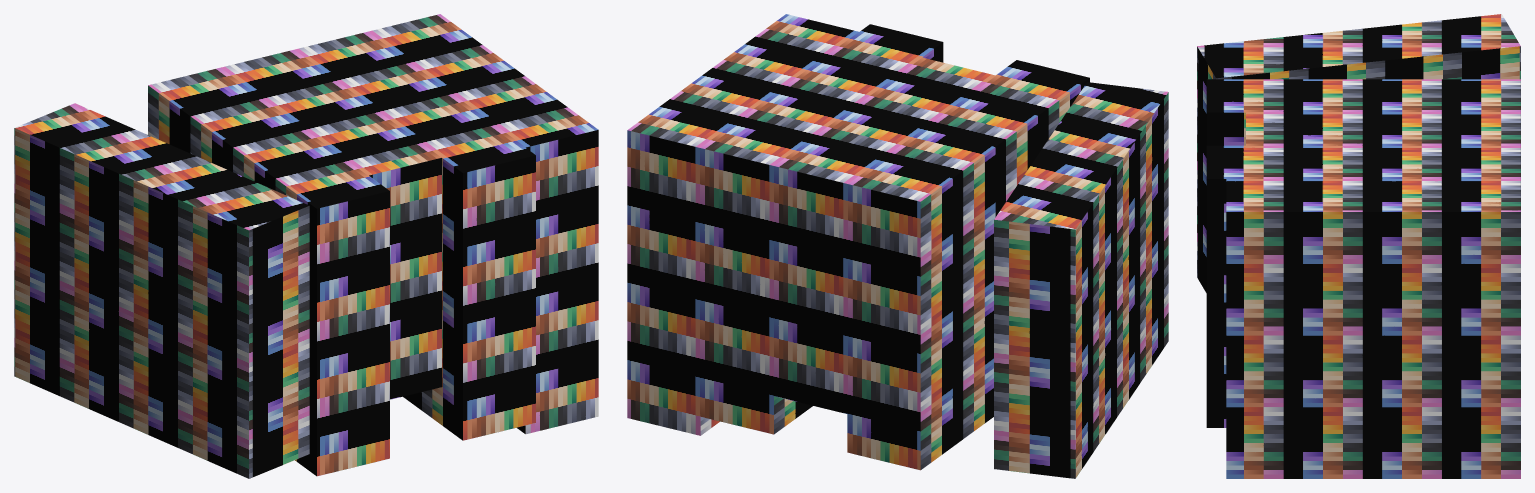
File: book.obj
3 renders of one model, left to right at view 1: azimuth 30°, elevation 25°; view 2: azimuth 150°, elevation 25°; view 3: azimuth 270°, elevation 25°, orthographic. The views are drawn at different scales.
Size of the model in its own units: 0.1014 by 0.0637 by 0.07.
Materials: 1 (1 with a texture image).
